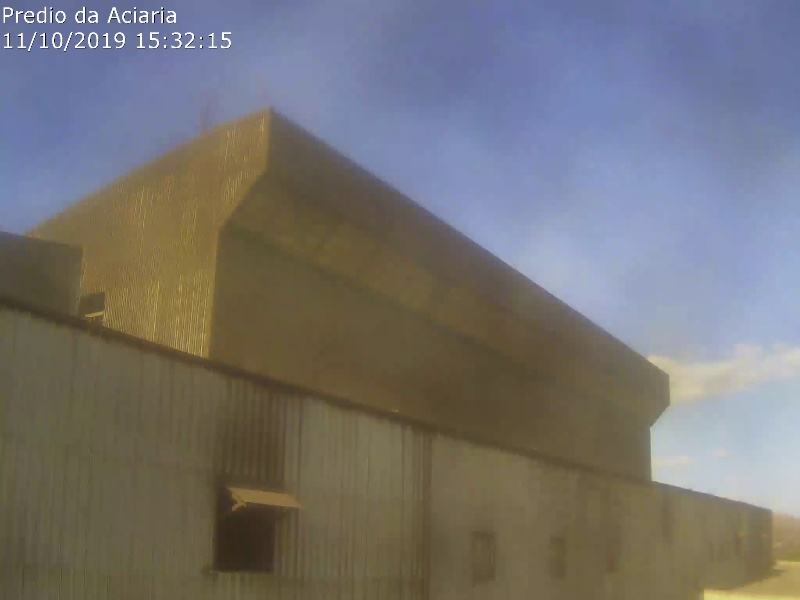ruim: (107, 11, 437, 355)
